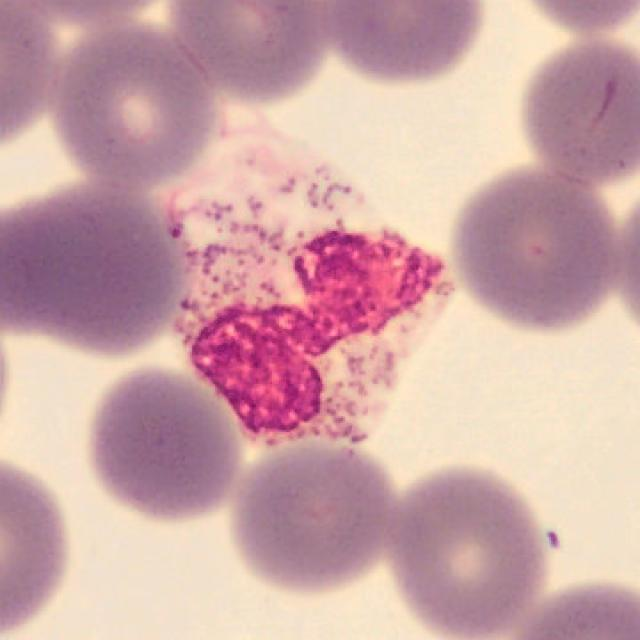Neutrofilo segmentado: (160, 105, 455, 448)
